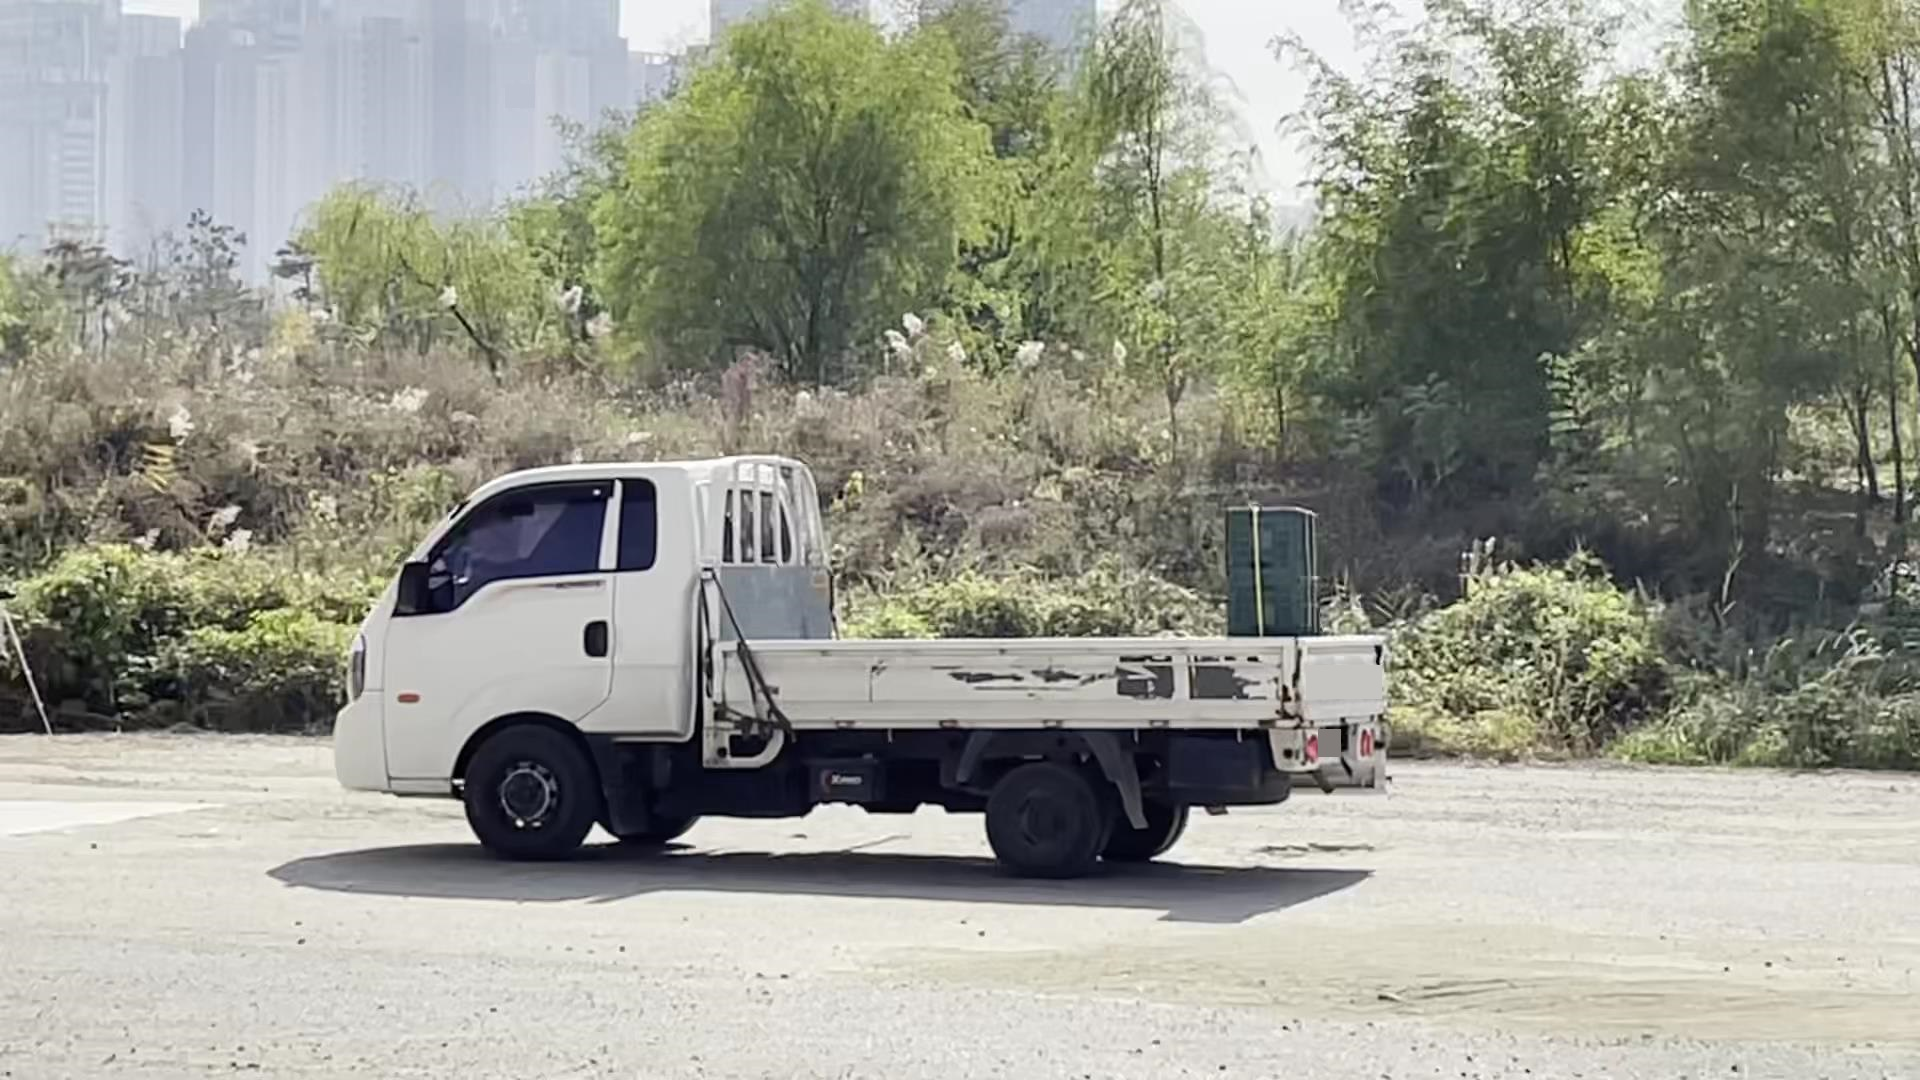불법차량: (332, 452, 1395, 881)
